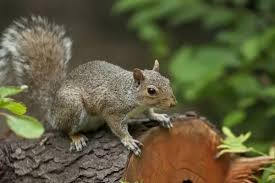squirrel: (7, 22, 177, 151)
